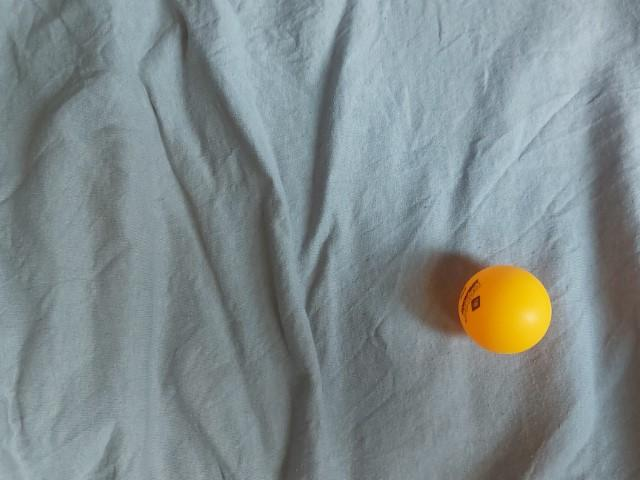oball: (84, 121, 187, 221)
